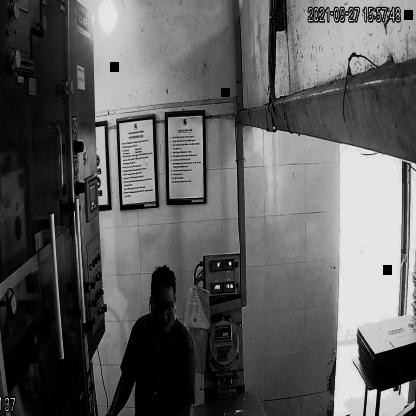goggles: (150, 296, 177, 319)
